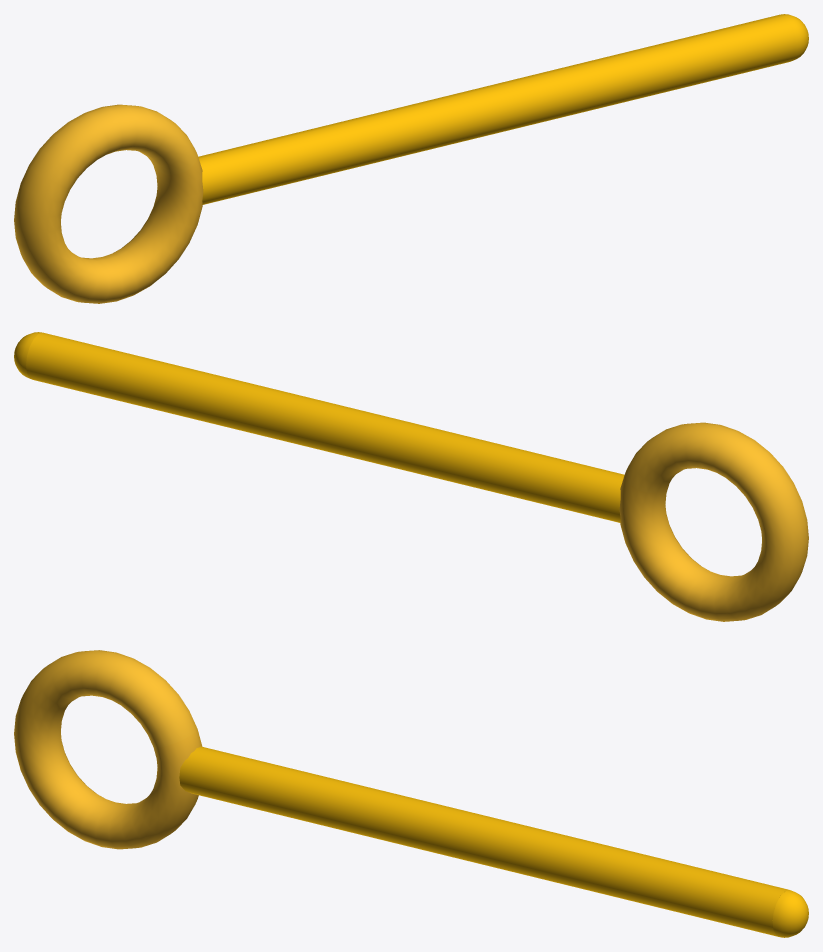
File: pin_default.FBX
The picture shows the model from 3 angles, top to bottom: view 1: azimuth 30°, elevation 25°; view 2: azimuth 150°, elevation 25°; view 3: azimuth 330°, elevation 25°; orthographic projection.
Visible parts, largest first — view 1: Pin_Normal_body, Pin_Normal_head, Pin_Normal_tail; view 2: Pin_Normal_body, Pin_Normal_head, Pin_Normal_tail; view 3: Pin_Normal_body, Pin_Normal_head, Pin_Normal_tail.
Boxes of the visible parts, x1,y1,x2,y2 form: Pin_Normal_body: (198,14,796,204); Pin_Normal_head: (14,104,203,303); Pin_Normal_tail: (781,14,808,61); Pin_Normal_body: (26,332,624,522); Pin_Normal_head: (619,422,808,621); Pin_Normal_tail: (14,332,41,379); Pin_Normal_body: (179,746,788,936); Pin_Normal_head: (14,650,202,849); Pin_Normal_tail: (772,890,808,937).
Bounding box in the file's own units: 10.11 × 2.32 × 0.5976.
